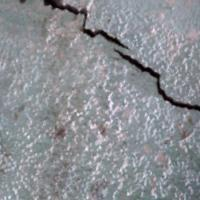crack: (45, 0, 199, 120)
